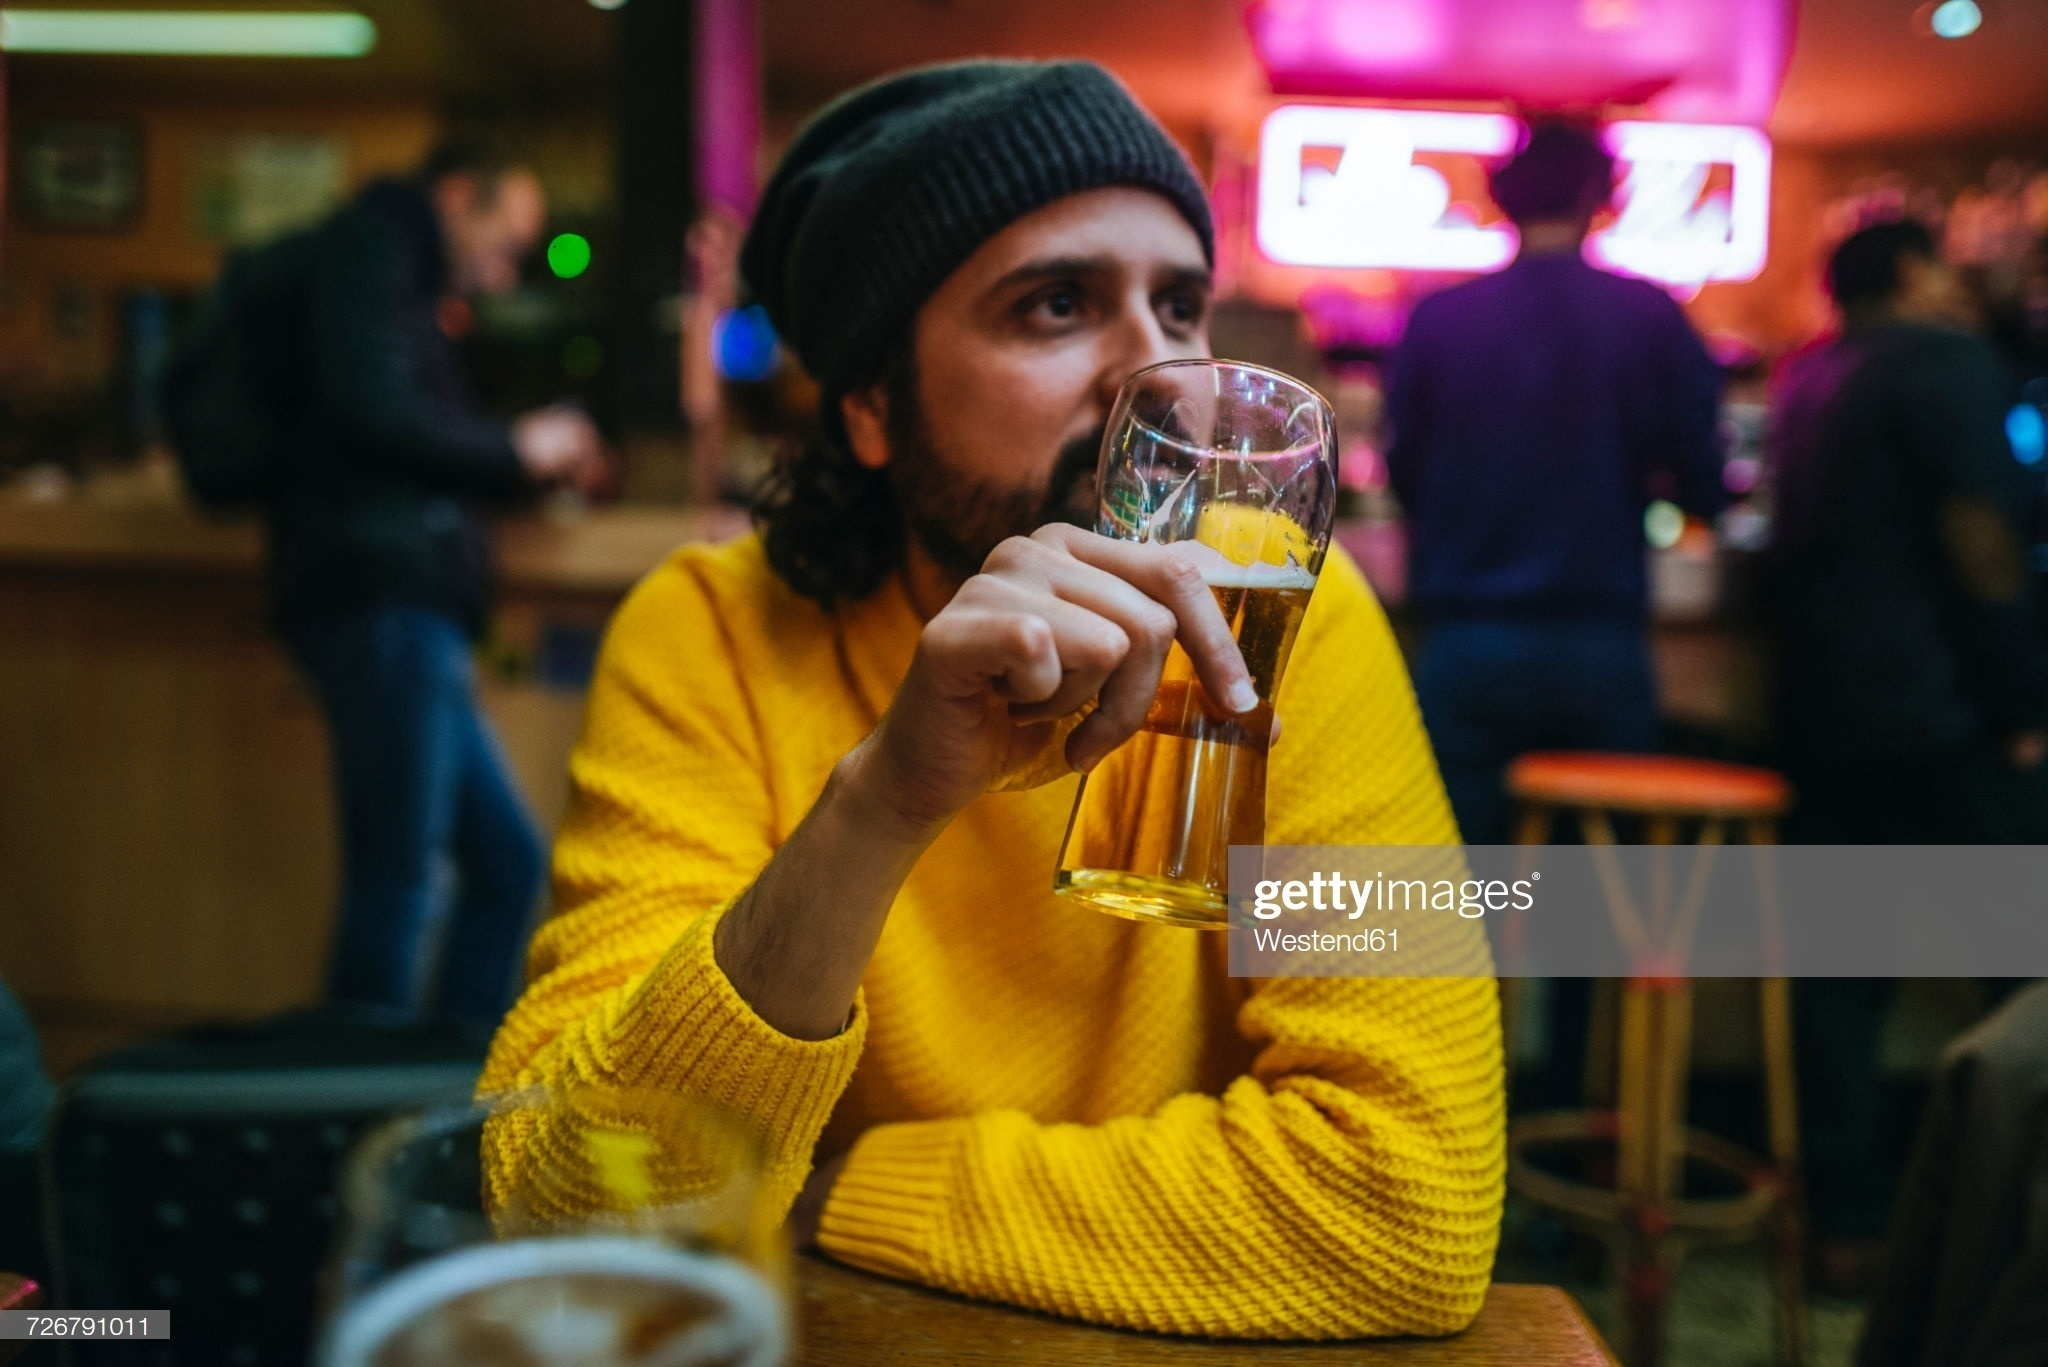whiskey: (1031, 383, 1340, 922)
